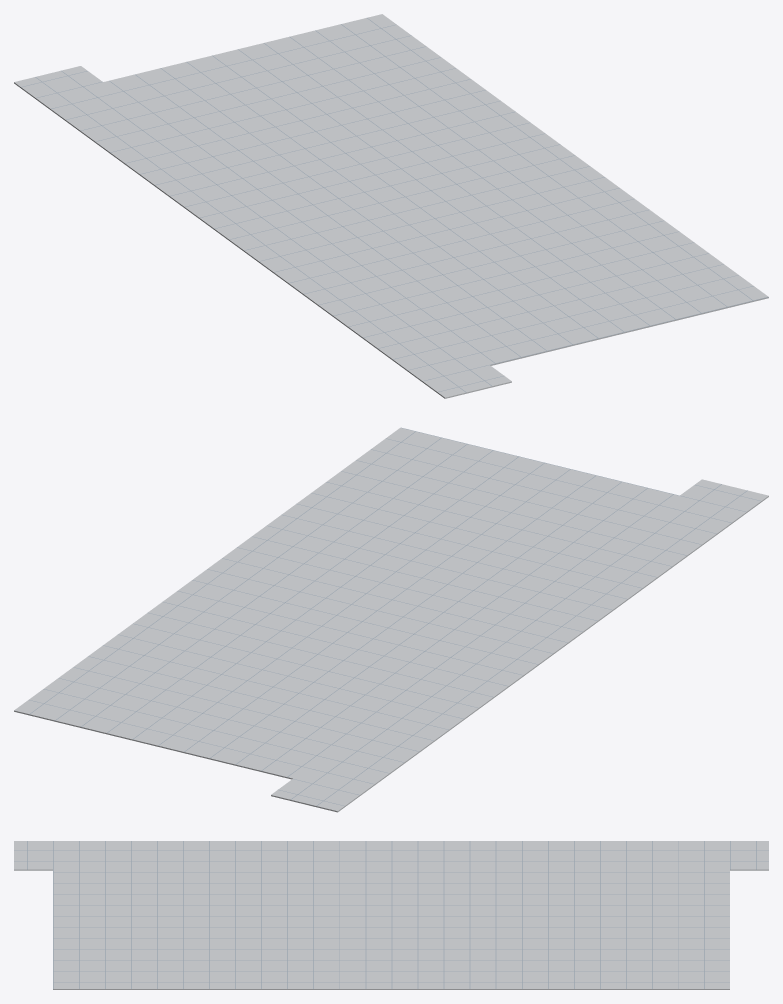
The model's file is SM_MPR4_RoofSkin_00.fbx.
3 renders of one model, top to bottom at view 1: azimuth 30°, elevation 25°; view 2: azimuth 150°, elevation 25°; view 3: azimuth 270°, elevation 25°, orthographic. The views are drawn at different scales.
Parts seen in each view (by area): view 1: SM_MPR4_RoofSkin_00; view 2: SM_MPR4_RoofSkin_00; view 3: SM_MPR4_RoofSkin_00.
Part boxes in pixels (left/top/right/bottom): SM_MPR4_RoofSkin_00: left=14, top=14, right=768, bottom=398; SM_MPR4_RoofSkin_00: left=14, top=427, right=768, bottom=812; SM_MPR4_RoofSkin_00: left=14, top=841, right=768, bottom=989.
Size of the model in its own units: 8193 by 17678 by 28.2.
